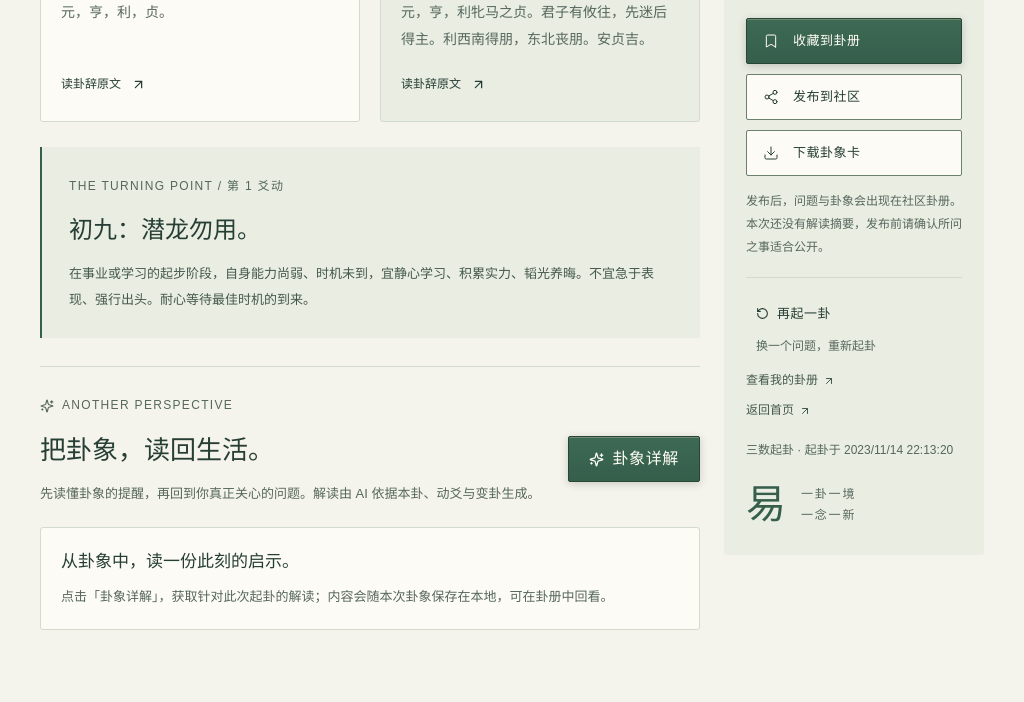
ResultDisplay › streamed chunks accumulate into aiText
(page scrolled)
Click the button "卦象详解".
click(634, 459)  # box top-left (568, 436), bottom-right (700, 482)
(page scrolled)
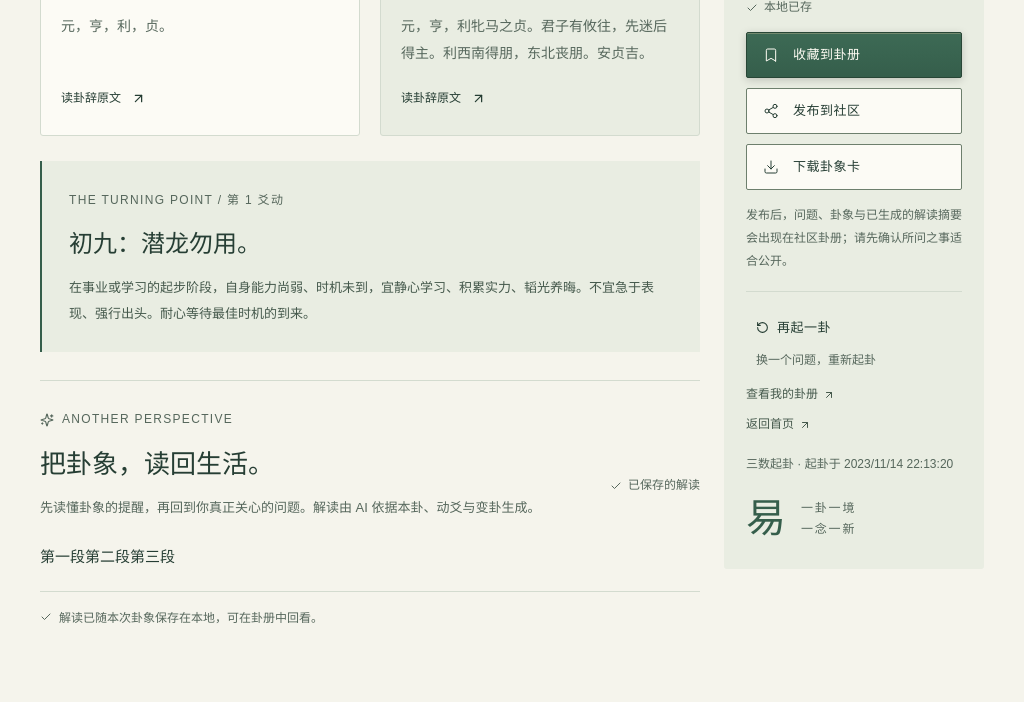
Check: the text "第一段第二段第三段" is shown, box top-left (40, 549), bottom-right (175, 565)
